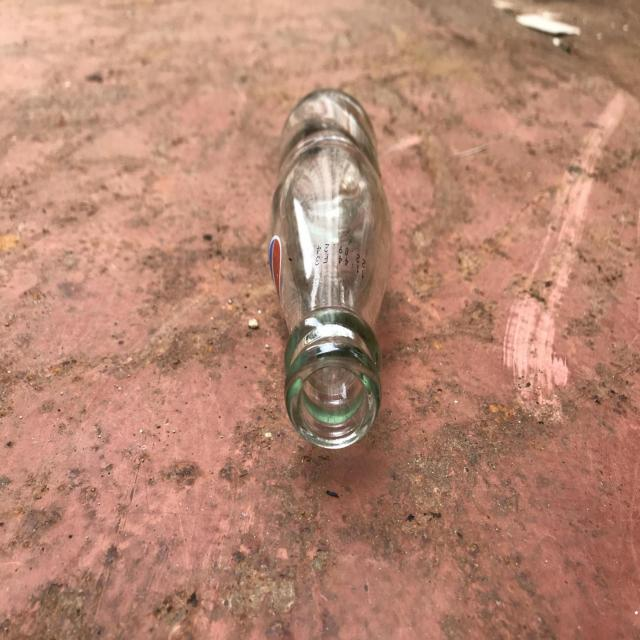glass: (269, 88, 392, 449)
